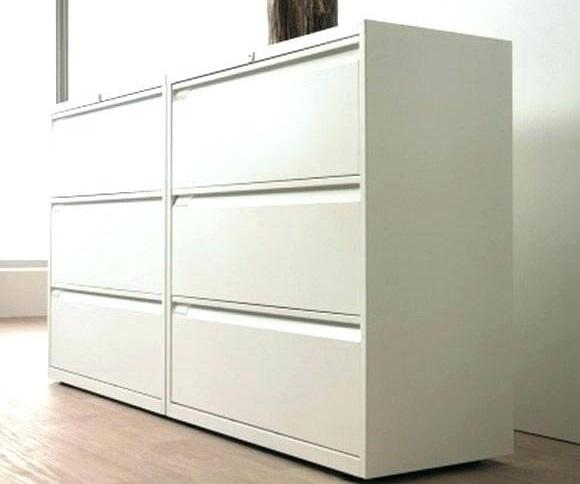cabinet_door: (171, 308, 362, 432), (172, 55, 364, 178), (172, 189, 363, 309), (50, 195, 166, 288), (50, 290, 165, 378), (51, 103, 165, 190)
handle: (179, 305, 363, 340), (179, 185, 358, 215), (172, 61, 358, 78), (55, 284, 164, 311), (54, 193, 162, 216), (50, 100, 162, 115)
